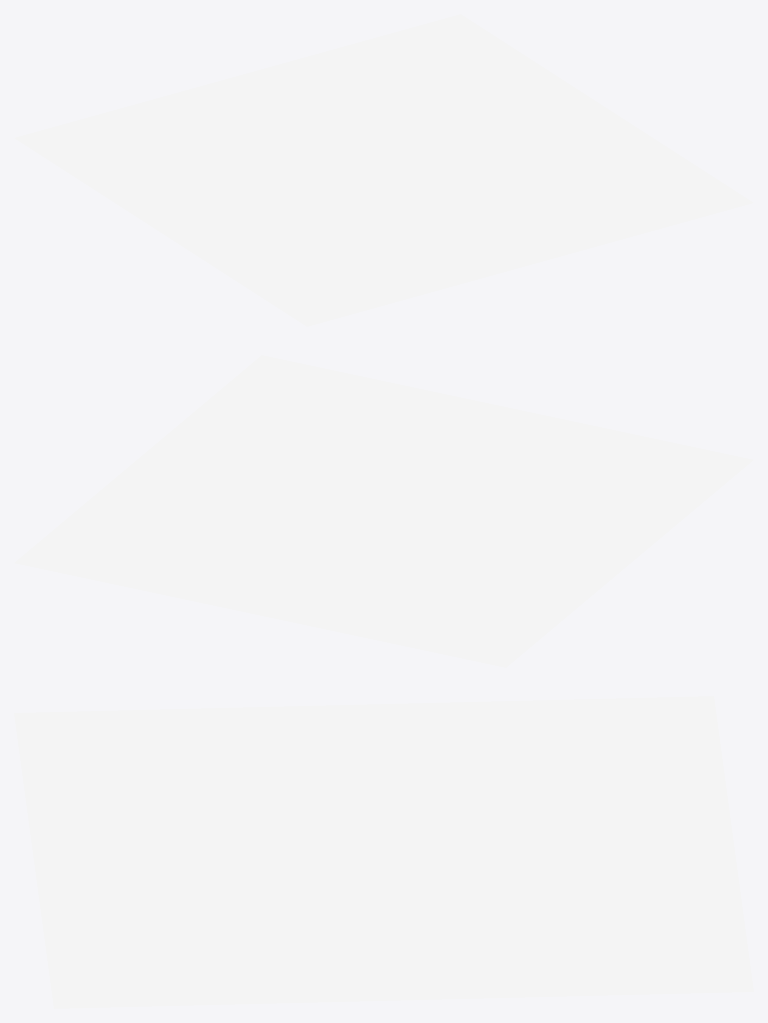
File: effect.glb
3 renders of one model, top to bottom at view 1: azimuth 30°, elevation 25°; view 2: azimuth 150°, elevation 25°; view 3: azimuth 270°, elevation 25°, orthographic. The views are drawn at different scales.
Parts seen in each view (by area): view 1: cloud_04_cloud_00_0.007; view 2: cloud_04_cloud_00_0.007; view 3: cloud_04_cloud_00_0.007.
Boxes of the visible parts, x1,y1,x2,y2 form: cloud_04_cloud_00_0.007: [14, 14, 753, 326]; cloud_04_cloud_00_0.007: [14, 355, 753, 667]; cloud_04_cloud_00_0.007: [14, 696, 753, 1008].
Size of the model in its own units: 10.05 by 0 by 10.05.
Materials: 1 (1 with a texture image).
